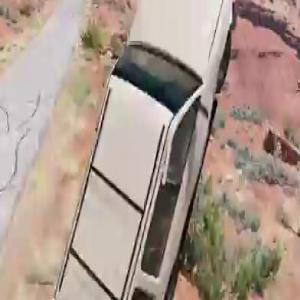serious: (45, 0, 236, 300)
